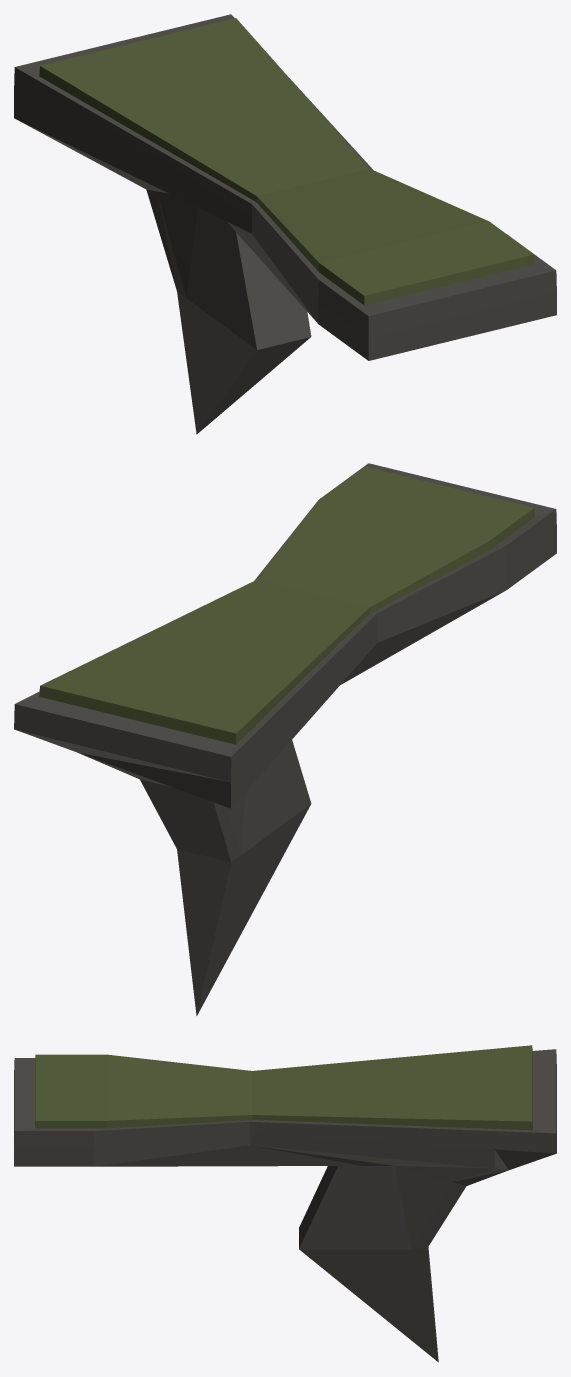
Rendered from Pijakan.dae.
The picture shows the model from 3 angles, top to bottom: view 1: azimuth 30°, elevation 25°; view 2: azimuth 150°, elevation 25°; view 3: azimuth 270°, elevation 25°; orthographic projection. The views are drawn at different scales.
Parts seen in each view (by area): view 1: Cube; view 2: Cube; view 3: Cube.
Boxes of the visible parts, x1,y1,x2,y2 form: Cube: (14, 14, 556, 434); Cube: (14, 463, 556, 1015); Cube: (14, 1045, 556, 1362).
Bounding box in the file's own units: 3.64 × 9.88 × 5.61.
